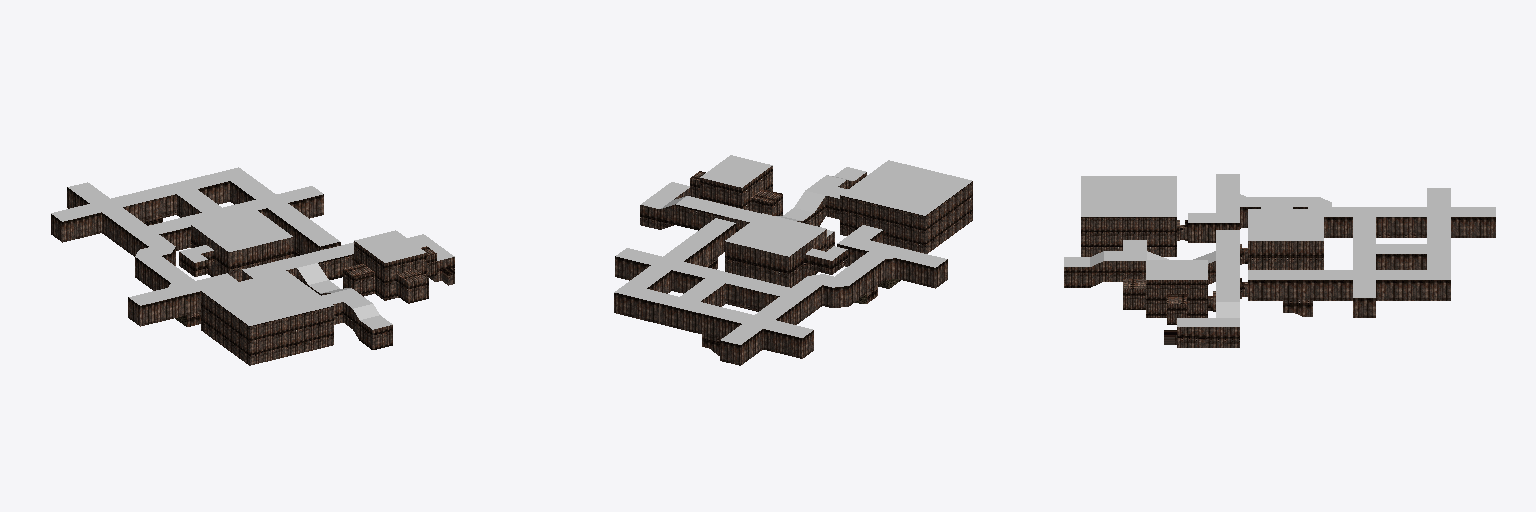
The picture shows the model from 3 angles: view 1: azimuth 30°, elevation 25°; view 2: azimuth 150°, elevation 25°; view 3: azimuth 270°, elevation 25°; orthographic projection.
Visible parts, largest first — view 1: #Room1#_Room1_roof., #Room1#_Room1__155.001.#MirrorY, #Camera1#IndoorEnv01.#Room3#_Room3__155.001.#MirrorY, #Camera1#IndoorEnv01.#Room3#_Room3_roof., #Camera1#IndoorEnv01.#Room2#_Room2__155.001.#MirrorY, #Room0#_Room0_roof., #Camera1#IndoorEnv01.#Room4#_Room4__155.001.#MirrorY, #Camera1#IndoorEnv01.#Room4#_Room4_roof., #Room0#_Room0__155.001.#MirrorY, #Camera1#IndoorEnv01.#Room2#_Room2_roof.; view 2: #Room1#_Room1__155.001.#MirrorY, #Room1#_Room1_roof., #Camera1#IndoorEnv01.#Room3#_Room3__155.001.#MirrorY, #Camera1#IndoorEnv01.#Room3#_Room3_roof., #Camera1#IndoorEnv01.#Room4#_Room4__155.001.#MirrorY, #Room0#_Room0_roof., #Camera1#IndoorEnv01.#Room4#_Room4_roof., #Room0#_Room0__155.001.#MirrorY, #Camera1#IndoorEnv01.#Room2#_Room2__155.001.#MirrorY, #Camera1#IndoorEnv01.#Room2#_Room2_roof.; view 3: #Room1#_Room1_roof., #Room1#_Room1__155.001.#MirrorY, #Room0#_Room0_roof., #Camera1#IndoorEnv01.#Room3#_Room3_roof., #Room0#_Room0__155.001.#MirrorY, #Camera1#IndoorEnv01.#Room3#_Room3__155.001.#MirrorY, #Camera1#IndoorEnv01.#Room2#_Room2__155.001.#MirrorY, #Camera1#IndoorEnv01.#Room4#_Room4_roof., #Camera1#IndoorEnv01.#Room4#_Room4__155.001.#MirrorY, #Camera1#IndoorEnv01.#Room2#_Room2_roof..
Boxes of the visible parts, x1,y1,x2,y2 form: #Room1#_Room1_roof.: [51, 167, 339, 305]; #Room1#_Room1__155.001.#MirrorY: [51, 181, 340, 326]; #Camera1#IndoorEnv01.#Room3#_Room3__155.001.#MirrorY: [201, 291, 333, 365]; #Camera1#IndoorEnv01.#Room3#_Room3_roof.: [202, 271, 333, 325]; #Camera1#IndoorEnv01.#Room2#_Room2__155.001.#MirrorY: [343, 241, 436, 303]; #Room0#_Room0_roof.: [242, 234, 454, 329]; #Camera1#IndoorEnv01.#Room4#_Room4__155.001.#MirrorY: [179, 225, 293, 281]; #Camera1#IndoorEnv01.#Room4#_Room4_roof.: [179, 209, 292, 262]; #Room0#_Room0__155.001.#MirrorY: [242, 254, 454, 349]; #Camera1#IndoorEnv01.#Room2#_Room2_roof.: [354, 230, 425, 262]; #Room1#_Room1__155.001.#MirrorY: [614, 224, 947, 365]; #Room1#_Room1_roof.: [614, 218, 946, 344]; #Camera1#IndoorEnv01.#Room3#_Room3__155.001.#MirrorY: [840, 181, 972, 253]; #Camera1#IndoorEnv01.#Room3#_Room3_roof.: [841, 160, 971, 215]; #Camera1#IndoorEnv01.#Room4#_Room4__155.001.#MirrorY: [725, 229, 847, 287]; #Room0#_Room0_roof.: [641, 167, 865, 236]; #Camera1#IndoorEnv01.#Room4#_Room4_roof.: [725, 213, 847, 260]; #Room0#_Room0__155.001.#MirrorY: [640, 172, 866, 250]; #Camera1#IndoorEnv01.#Room2#_Room2__155.001.#MirrorY: [690, 166, 782, 215]; #Camera1#IndoorEnv01.#Room2#_Room2_roof.: [700, 155, 772, 187]; #Room1#_Room1_roof.: [1188, 174, 1495, 297]; #Room1#_Room1__155.001.#MirrorY: [1183, 207, 1495, 317]; #Room0#_Room0_roof.: [1064, 230, 1239, 326]; #Camera1#IndoorEnv01.#Room3#_Room3_roof.: [1081, 176, 1176, 216]; #Room0#_Room0__155.001.#MirrorY: [1064, 244, 1244, 347]; #Camera1#IndoorEnv01.#Room3#_Room3__155.001.#MirrorY: [1081, 217, 1182, 256]; #Camera1#IndoorEnv01.#Room2#_Room2__155.001.#MirrorY: [1123, 279, 1210, 324]; #Camera1#IndoorEnv01.#Room4#_Room4_roof.: [1248, 205, 1323, 240]; #Camera1#IndoorEnv01.#Room4#_Room4__155.001.#MirrorY: [1245, 241, 1323, 269]; #Camera1#IndoorEnv01.#Room2#_Room2_roof.: [1146, 260, 1207, 279].
Bounding box in the file's own units: 2592 × 474 × 3281.
21 materials, 13 textured.